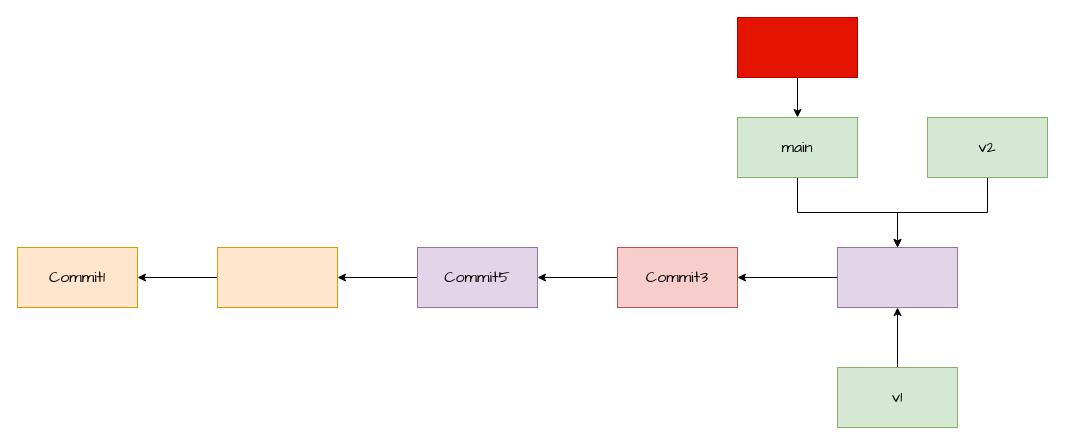
Image size: 1065x445. Some labels were removed from this diagram. Each missing label, with the centre of its shape:
"Commit2" belongs at point (277, 277).
"Commit4" belongs at point (897, 277).
"HEAD" belongs at point (797, 47).
